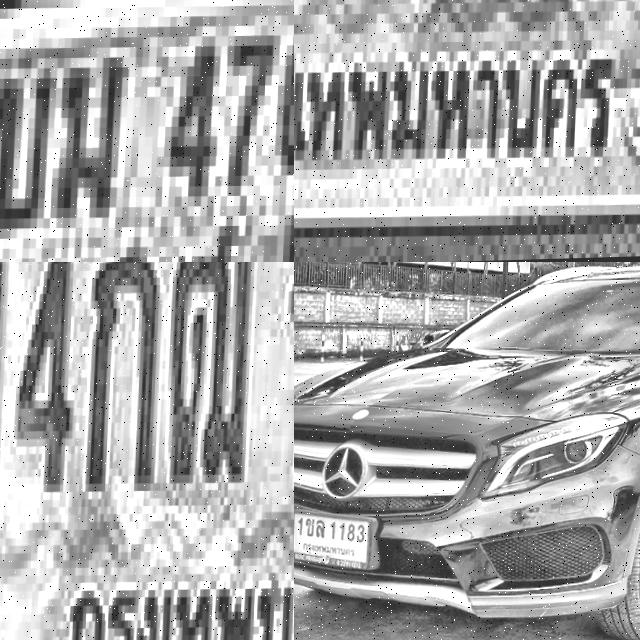license-plate: (0, 262, 294, 640), (294, 0, 640, 262), (0, 0, 294, 262), (294, 504, 382, 578)
